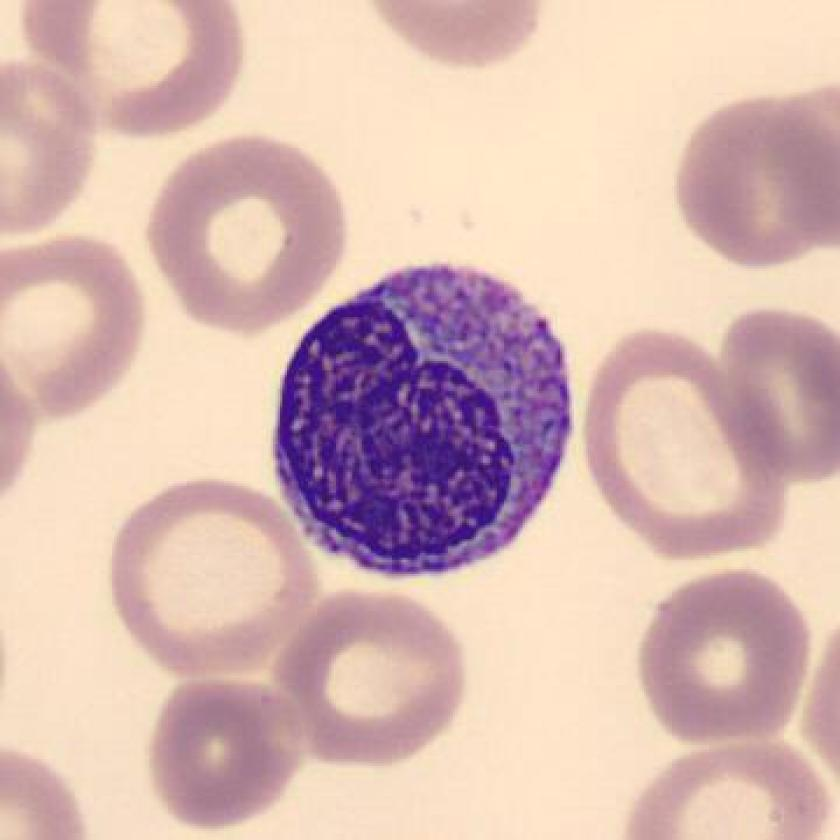monocyte: (251, 249, 598, 598)
